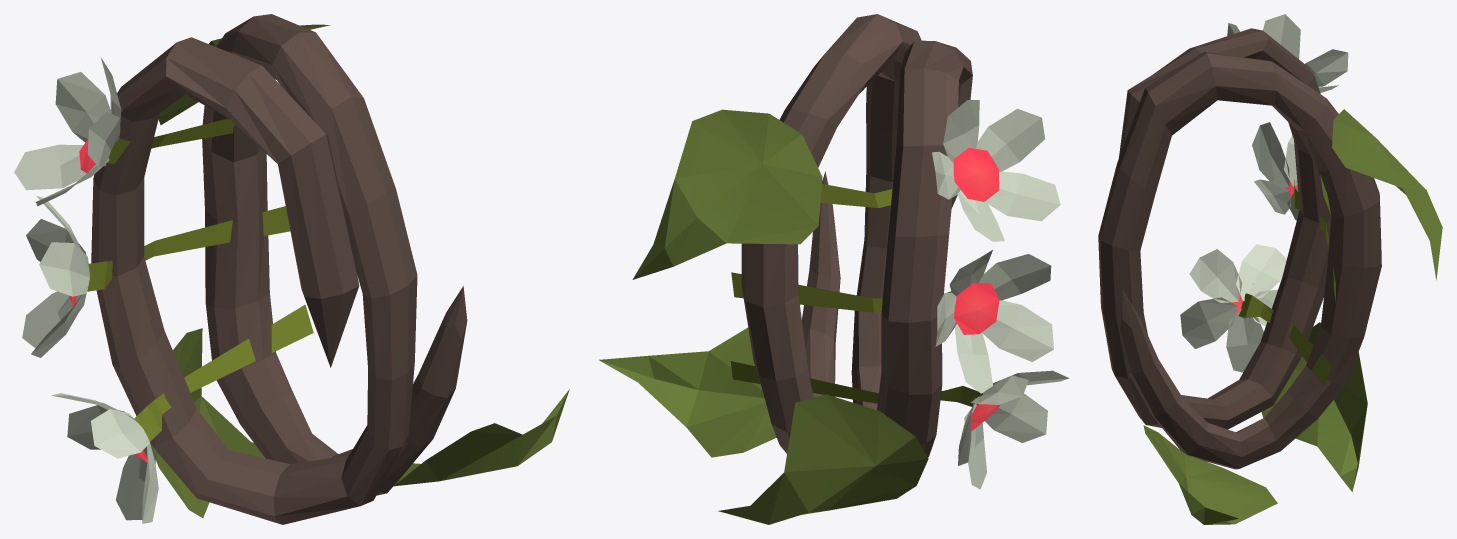
The model's file is flowerGlove.glb.
3 views of the same model, side by side, from view 1: azimuth 30°, elevation 25°; view 2: azimuth 150°, elevation 25°; view 3: azimuth 270°, elevation 25° (orthographic). The views are drawn at different scales.
Visible parts, largest first — view 1: flowerGlove; view 2: flowerGlove; view 3: flowerGlove.
Part boxes in pixels (x1,y1,x2,y2): flowerGlove: (14,14,569,524); flowerGlove: (599,14,1069,524); flowerGlove: (1098,14,1442,524).
Size of the model in its own units: 0.1662 by 0.155 by 0.1185.
